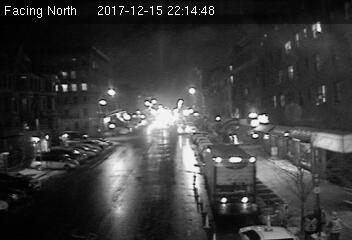car: (237, 224, 298, 240), (176, 124, 190, 134)
truck: (203, 145, 257, 207)
